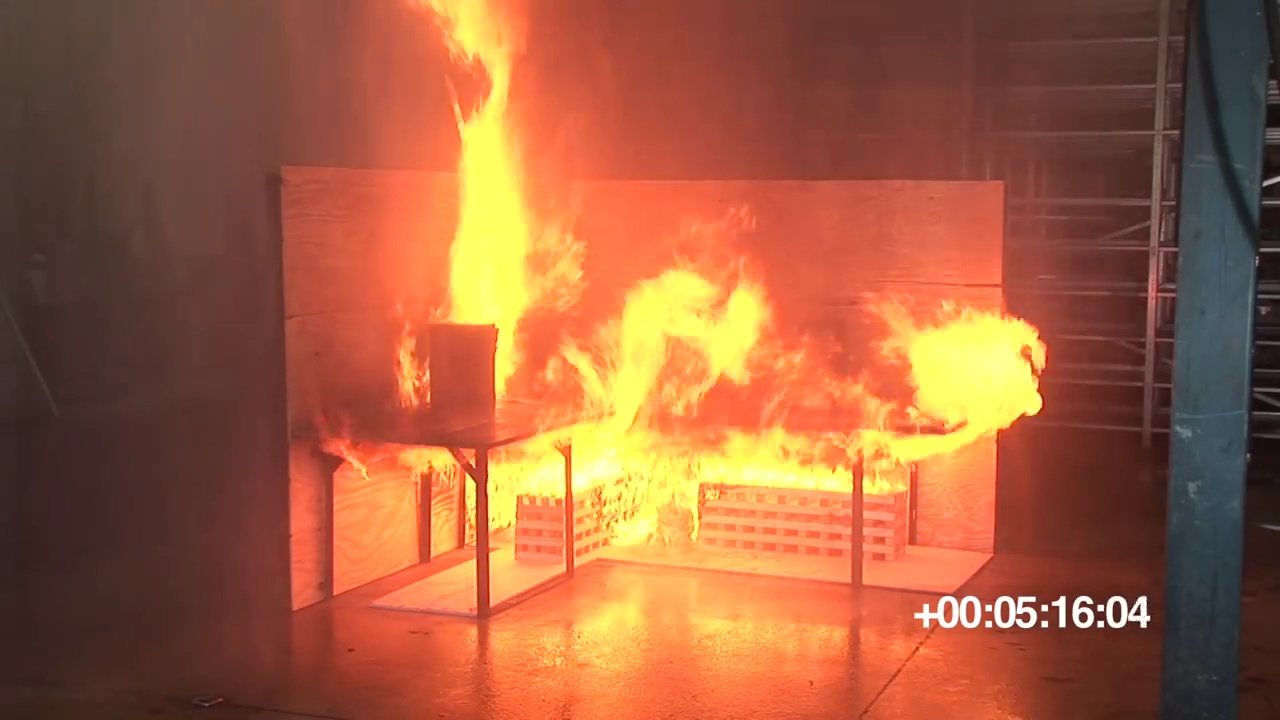fire: (436, 1, 578, 326), (784, 299, 1043, 447), (568, 267, 771, 444), (487, 454, 897, 533), (393, 325, 431, 404)
